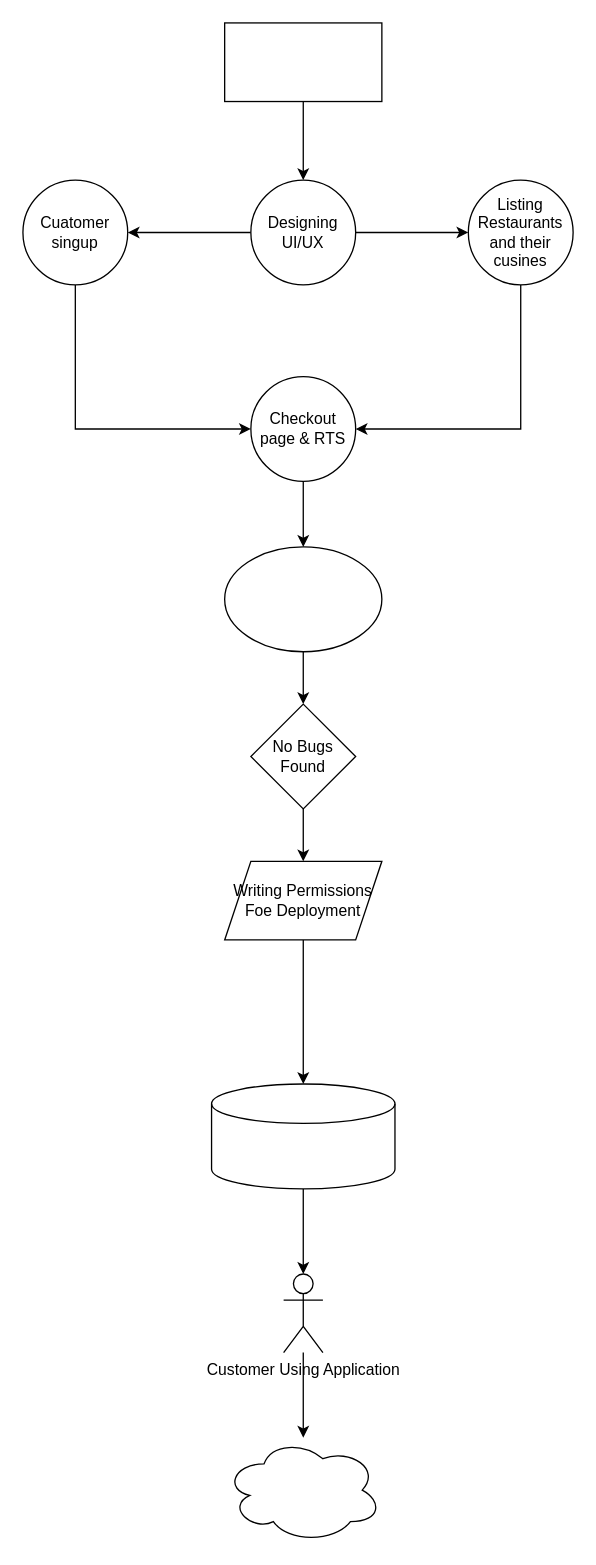
This 596x1565 diagram has some shape labels left out. Here are the shapes that lost their labels. From the top down, the box of each, then its label:
(223, 22, 382, 102): ZK Eats
(223, 546, 382, 652): Compiling to APK
(210, 1083, 395, 1189): Pushed to Appstore
(223, 1436, 382, 1543): Recieved No Feedback
